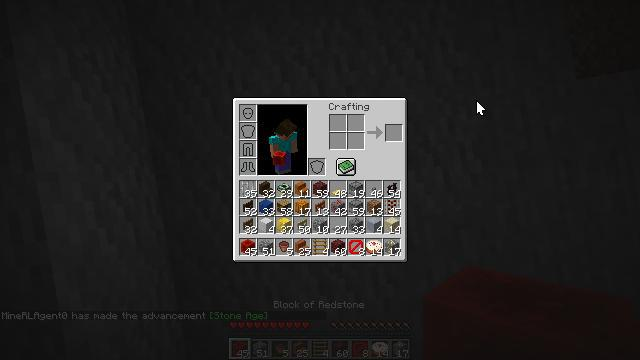cursor: (476, 100, 486, 116)
